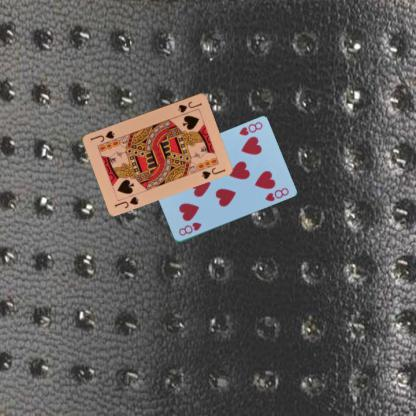8h: (176, 219, 202, 238), (236, 120, 264, 137)
Js: (176, 98, 203, 114), (112, 194, 140, 209)
